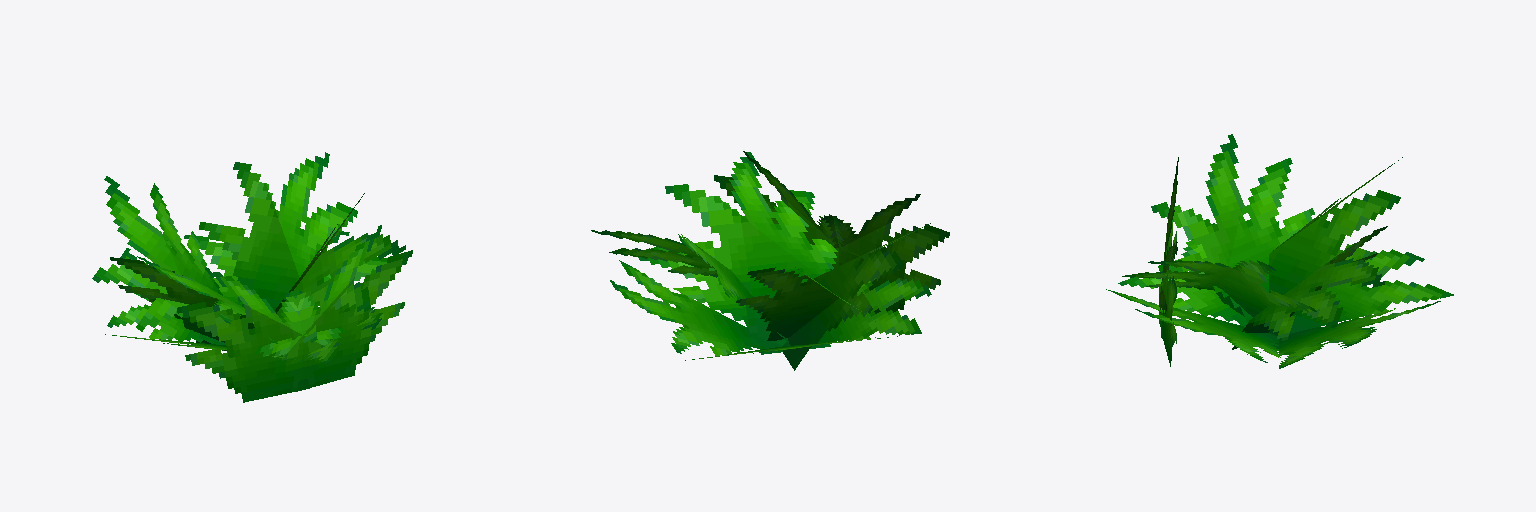
The picture shows the model from 3 angles: view 1: azimuth 30°, elevation 25°; view 2: azimuth 150°, elevation 25°; view 3: azimuth 270°, elevation 25°; orthographic projection.
Parts seen in each view (by area): view 1: origin, glass_locater2, glass_locater1, grass_3_1_0_node_hureai_grass_png; view 2: origin, glass_locater2, grass_3_1_0_node_hureai_grass_png, glass_locater1; view 3: origin, glass_locater2, glass_locater1, grass_3_1_0_node_hureai_grass_png.
Boxes of the visible parts, x1,y1,x2,y2 form: origin: [110, 162, 412, 402]; glass_locater2: [92, 152, 387, 344]; glass_locater1: [137, 222, 405, 358]; grass_3_1_0_node_hureai_grass_png: [105, 268, 395, 363]; origin: [651, 175, 949, 370]; glass_locater2: [591, 230, 897, 360]; grass_3_1_0_node_hureai_grass_png: [638, 194, 931, 345]; glass_locater1: [716, 151, 930, 275]; origin: [1159, 158, 1400, 366]; glass_locater2: [1248, 157, 1453, 368]; glass_locater1: [1122, 134, 1243, 292]; grass_3_1_0_node_hureai_grass_png: [1106, 157, 1278, 362].
Size of the model in its own units: 36.09 by 17.55 by 36.09.
Materials: 1 (1 with a texture image).